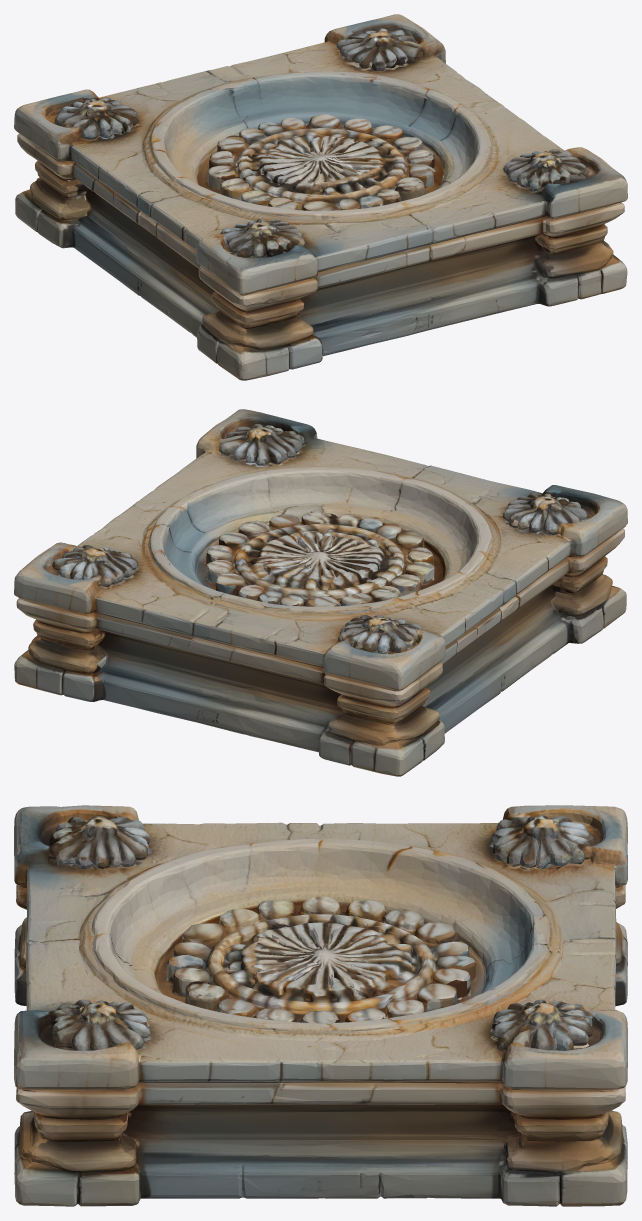
Rendered from lotus-engraved-drain-grate-optimized.glb.
The picture shows the model from 3 angles, top to bottom: view 1: azimuth 30°, elevation 25°; view 2: azimuth 150°, elevation 25°; view 3: azimuth 270°, elevation 25°; orthographic projection. The views are drawn at different scales.
Visible parts, largest first — view 1: dee6e771-4fd5-4d95-92b2-60d04553cca4_texturing.obj; view 2: dee6e771-4fd5-4d95-92b2-60d04553cca4_texturing.obj; view 3: dee6e771-4fd5-4d95-92b2-60d04553cca4_texturing.obj.
Boxes of the visible parts, x1=… form: dee6e771-4fd5-4d95-92b2-60d04553cca4_texturing.obj: x1=14, y1=14, x2=627, y2=380; dee6e771-4fd5-4d95-92b2-60d04553cca4_texturing.obj: x1=14, y1=409, x2=627, y2=776; dee6e771-4fd5-4d95-92b2-60d04553cca4_texturing.obj: x1=14, y1=805, x2=627, y2=1206.
Size of the model in its own units: 1.18 by 0.3655 by 1.2.
1 material, 1 textured.
